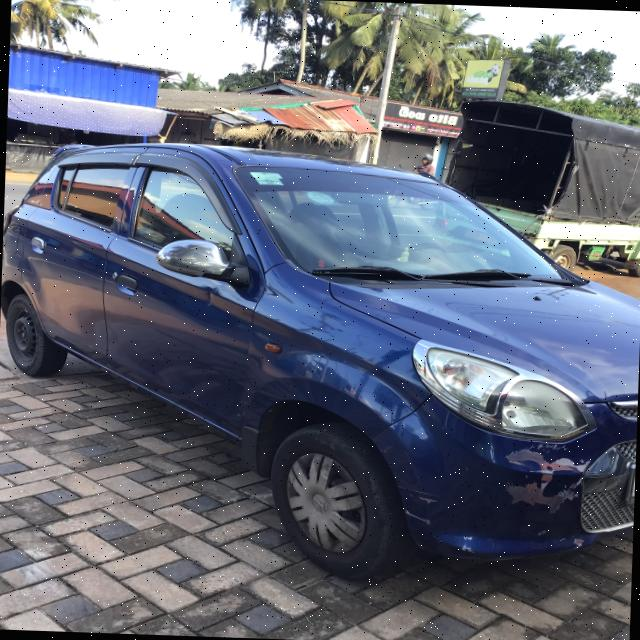car: (0, 141, 640, 588)
truck: (439, 94, 640, 262)
